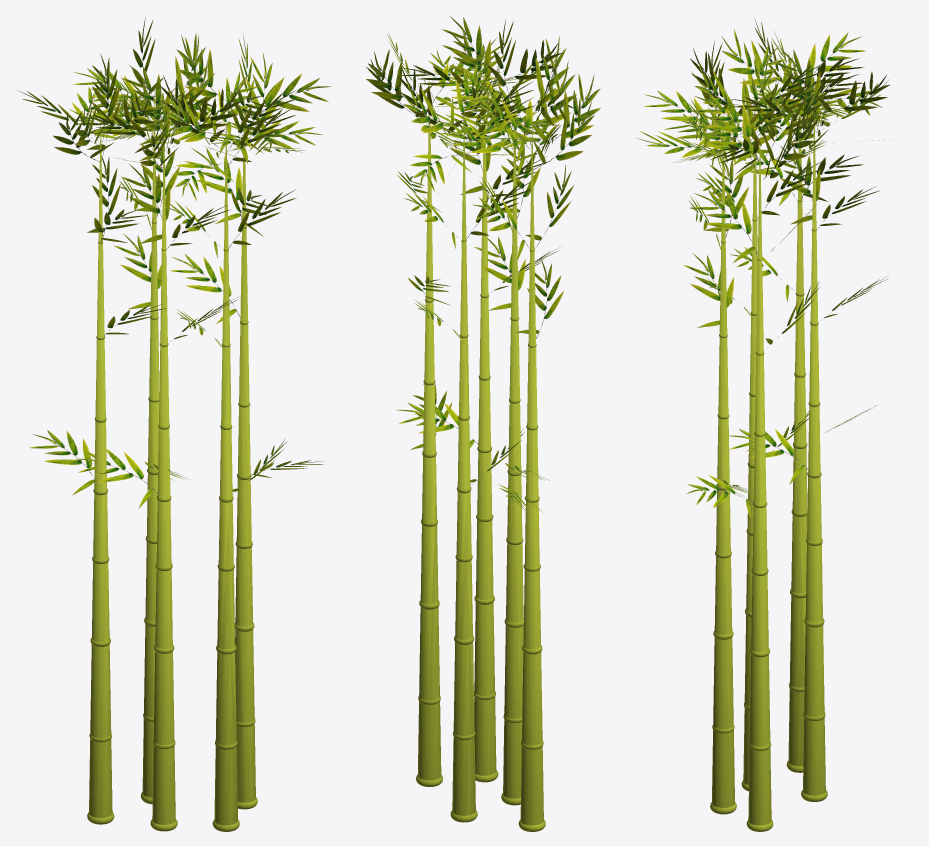
The model's file is bamboo_Vr3.fbx.
3 views of the same model, side by side, from view 1: azimuth 30°, elevation 25°; view 2: azimuth 150°, elevation 25°; view 3: azimuth 270°, elevation 25° (orthographic).
Visible parts, largest first — view 1: bamboo9; view 2: bamboo9; view 3: bamboo9.
Part boxes in pixels (left/top/right/bottom): bamboo9: left=17, top=17, right=331, bottom=831; bamboo9: left=366, top=16, right=600, bottom=831; bamboo9: left=635, top=18, right=889, bottom=831.
Bounding box in the file's own units: 3.58 × 10.5 × 3.63.
Materials: 2 (2 with a texture image).
